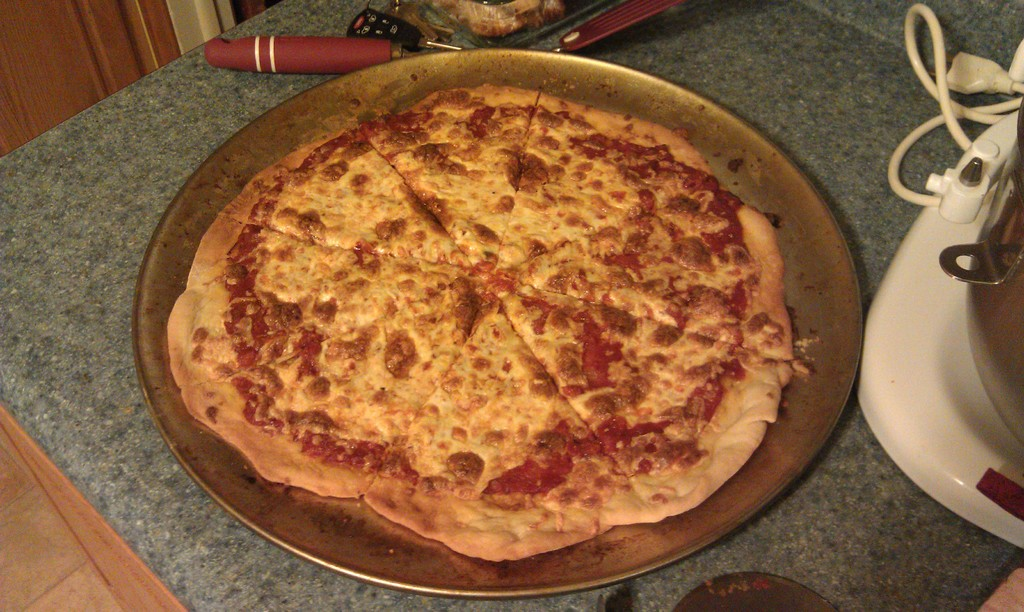Pizza: (131, 53, 832, 600)
